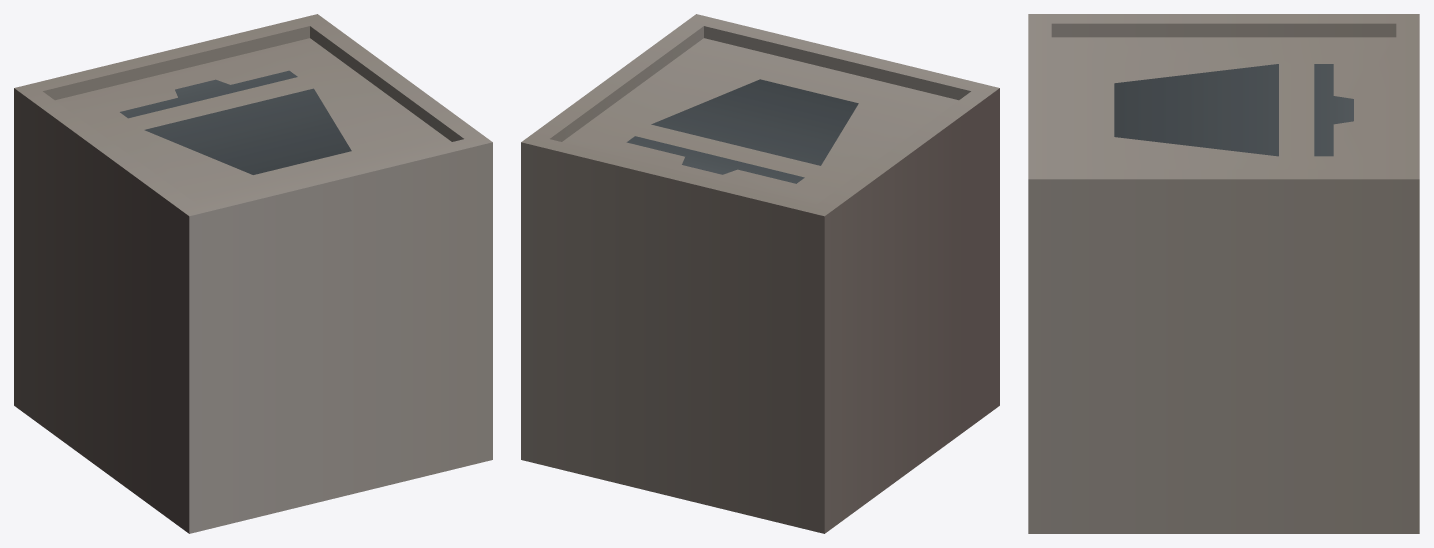
File: bin.gltf
3 renders of one model, left to right at view 1: azimuth 30°, elevation 25°; view 2: azimuth 150°, elevation 25°; view 3: azimuth 270°, elevation 25°, orthographic. The views are drawn at different scales.
Visible parts, largest first — view 1: Cube; view 2: Cube; view 3: Cube.
Part boxes in pixels (x1,y1,x2,y2): Cube: (14,14,492,533); Cube: (521,14,999,533); Cube: (1028,14,1419,533).
Size of the model in its own units: 2 by 2 by 2.
Materials: 1 (1 with a texture image).
